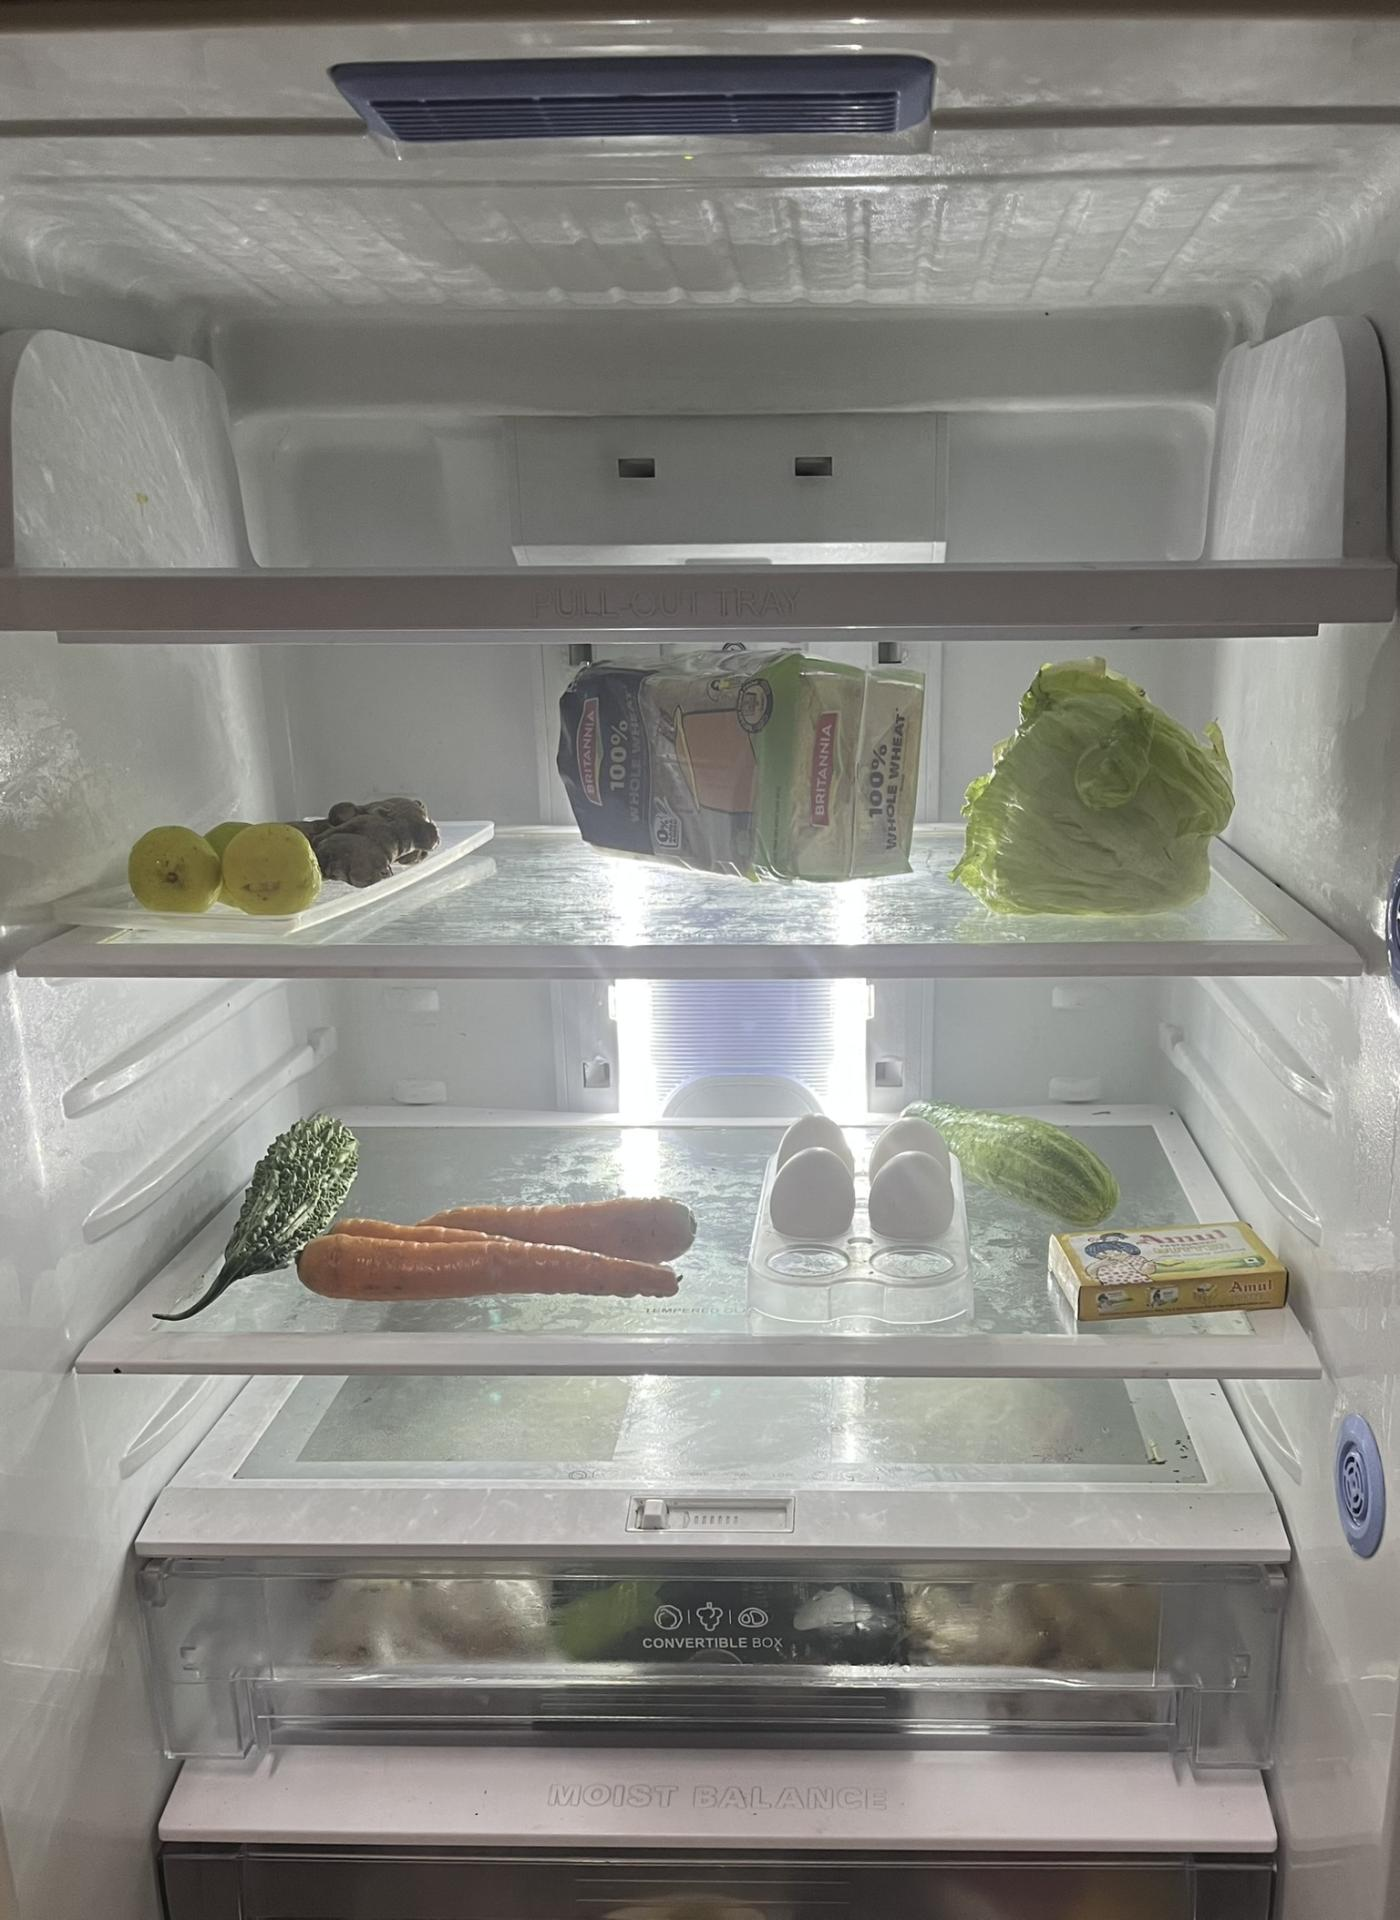bitter gourd: (171, 1112, 365, 1315)
bread: (555, 653, 918, 885)
butter: (1047, 1227, 1293, 1321)
carrots: (292, 1199, 693, 1298)
cucumber: (915, 1100, 1115, 1227)
egg: (769, 1114, 959, 1245)
ginger: (301, 796, 441, 888)
lemon: (128, 820, 325, 915)
lettuce: (960, 653, 1233, 909)
